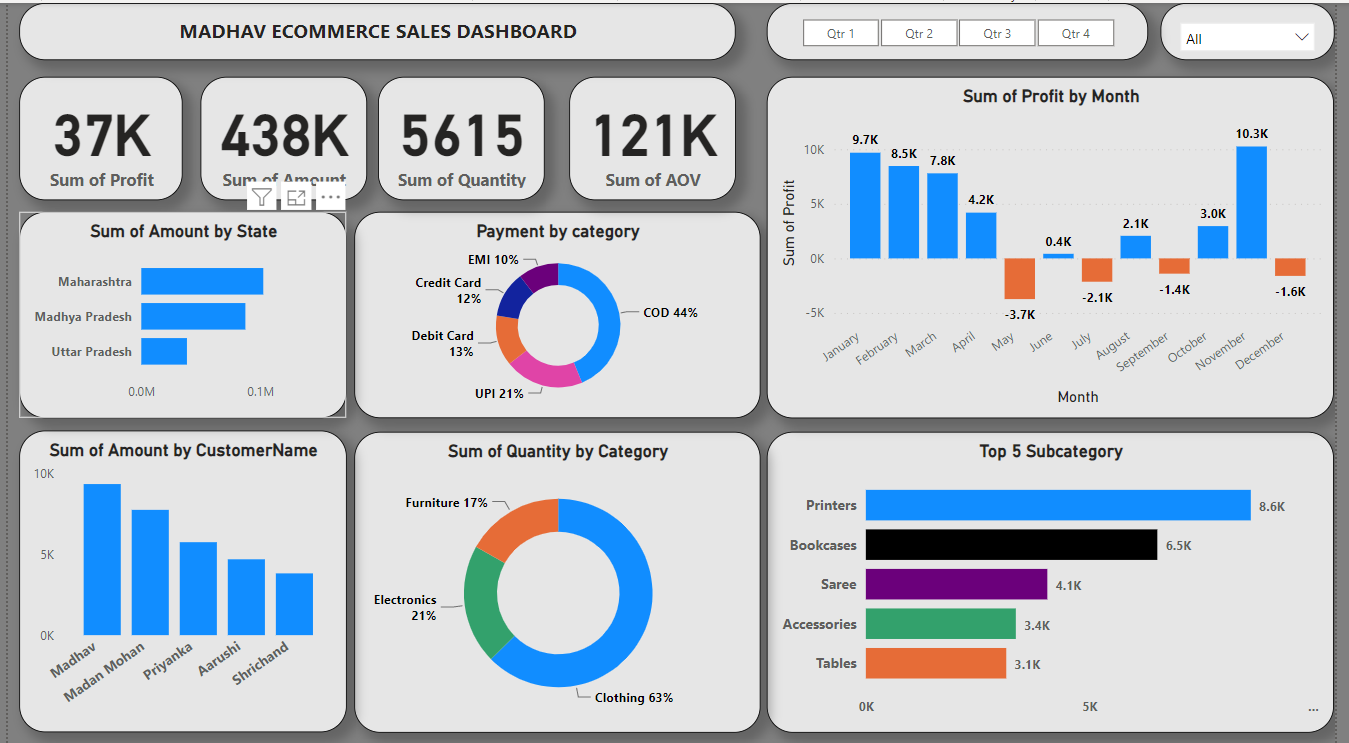

Layout of this report page (visuals, bound fields, positions):
{"tool":"powerbi","page":{"name":"Page 1","canvas":[1280,720],"ordinal":0},"visuals":[{"type":"slicer","title":"Profit by Month","fields":{"Values":["Orders.State"]},"box":[1112,0,167.6,55.5],"z":0},{"type":"barChart","title":"Top 5 Subcategory","fields":{"Category":["Details.Sub-Category"],"Y":["Details.Profit"]},"box":[732.1,413.7,547.5,290.7],"z":1},{"type":"donutChart","fields":{"Category":["Details.Category"],"Y":["Details.Quantity"]},"box":[334.1,413.7,392,290.7],"z":2},{"type":"pieChart","title":"Payment by category","fields":{"Category":["Details.PaymentMode"],"Y":["Details.Quantity"]},"box":[334.1,201.4,392,199],"z":3},{"type":"card","fields":{"Values":["Details.Profit"]},"box":[10.9,71.2,158,119.4],"z":4},{"type":"card","fields":{"Values":["Details.Amount"]},"box":[185.7,71.2,160.4,119.4],"z":5},{"type":"card","fields":{"Values":["Details.Quantity"]},"box":[357,71.2,160.4,119.4],"z":6},{"type":"card","fields":{"Values":["Details.AOV"]},"box":[541.5,71.2,160.4,119.4],"z":7},{"type":"clusteredColumnChart","fields":{"Category":["Orders.CustomerName"],"Y":["Details.Amount"]},"box":[11,413,315.6,290.9],"z":9},{"type":"textbox","box":[10.9,0,691.1,55.5],"z":10},{"type":"slicer","fields":{"Values":["Orders.Order Date.Variation.Date Hierarchy.Quarter"]},"box":[732.1,0,367.8,55.5],"z":11},{"type":"clusteredColumnChart","fields":{"Y":["Details.Profit"],"Category":["Orders.Order Date.Variation.Date Hierarchy.Month"]},"box":[732.1,71.2,547.5,329.2],"z":12},{"type":"barChart","fields":{"Category":["Orders.State"],"Y":["Details.Amount"]},"box":[10.9,201.4,316,199],"z":13}]}

Visuals, with their boxes in screenshot pixels (x1, y1, x2, y2), scaled from the page's 1280x720 canvas onto the 1349x743 screenshot:
"Profit by Month" slicer: detection(1172, 0, 1348, 57)
"Top 5 Subcategory" barChart: detection(772, 427, 1348, 727)
donutChart - Details.Category x Details.Quantity: detection(352, 427, 765, 727)
"Payment by category" pieChart: detection(352, 208, 765, 413)
card - Details.Profit: detection(11, 73, 178, 197)
card - Details.Amount: detection(196, 73, 365, 197)
card - Details.Quantity: detection(376, 73, 545, 197)
card - Details.AOV: detection(571, 73, 740, 197)
clusteredColumnChart - Orders.CustomerName x Details.Amount: detection(12, 426, 344, 726)
textbox: detection(11, 0, 740, 57)
slicer - Orders.Order Date.Variation.Date Hierarchy.Quarter: detection(772, 0, 1159, 57)
clusteredColumnChart - Details.Profit x Orders.Order Date.Variation.Date Hierarchy.Month: detection(772, 73, 1348, 413)
barChart - Orders.State x Details.Amount: detection(11, 208, 345, 413)
